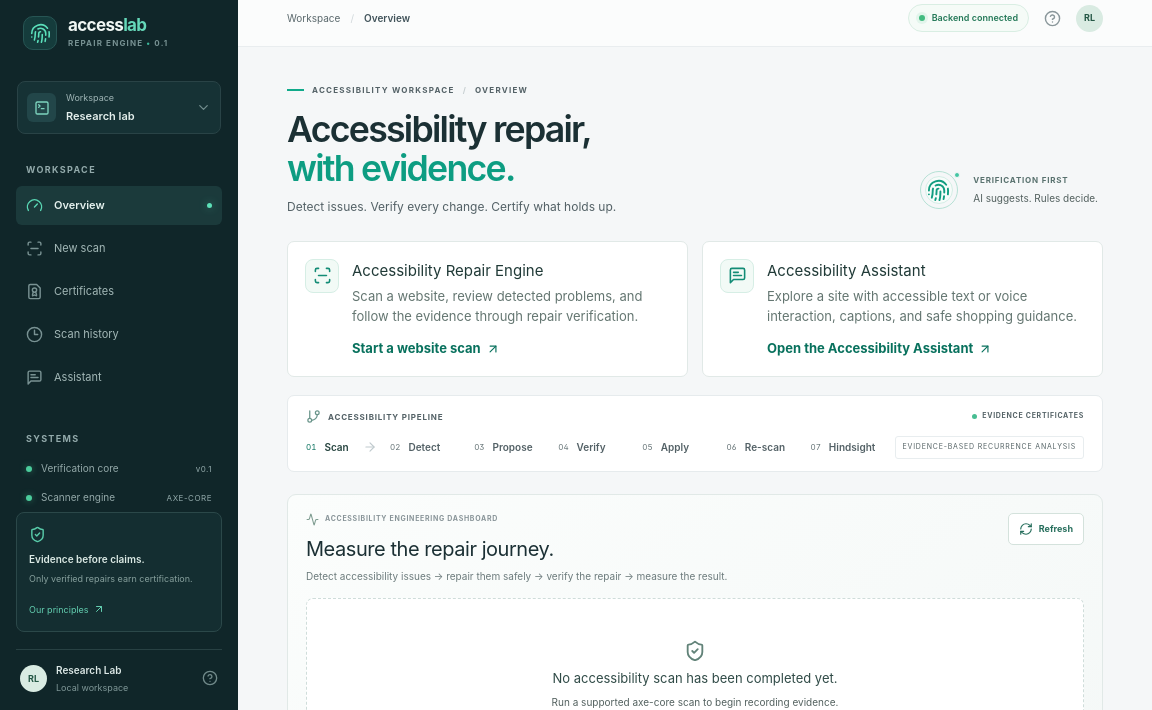
Test case: dashboard › submits the URL and displays real-shaped violation details
The image size is (1152, 710).
Expected: the text "Backend connected" is shown, [908,4,1029,32]
Click the link "New scan": {"x": 66, "y": 248} [26,240,106,256]
(page scrolled)
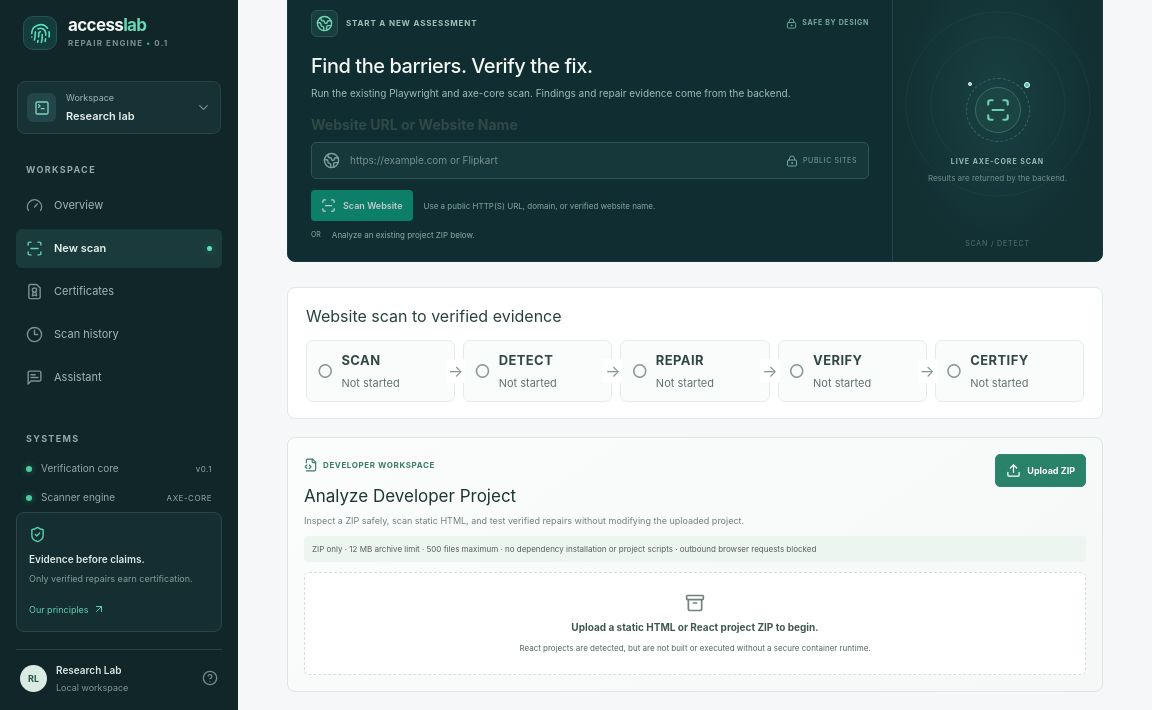
In the field labelled "Website URL or Website Name": {"x": 563, "y": 161} [350,153,776,168], type "https://example.com"
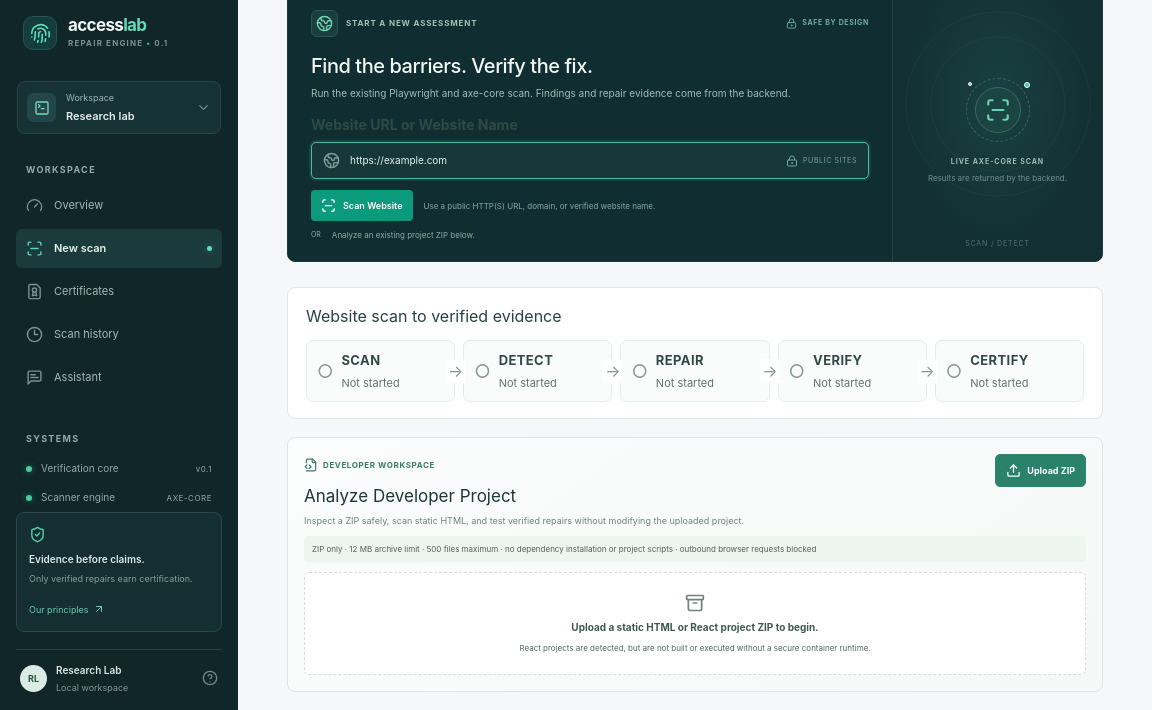
Click the button "Scan Website": {"x": 362, "y": 206} [311,190,412,221]
(page scrolled)
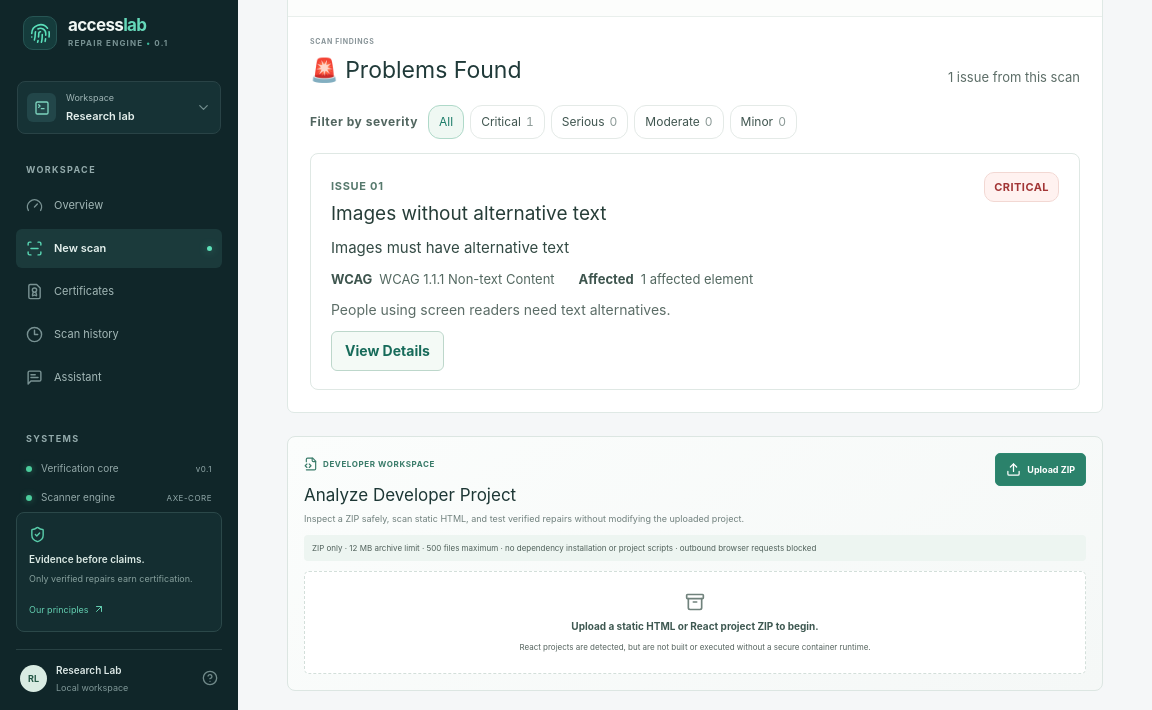
Expected: the text "Images must have alternative text" is shown, [331,238,569,257]
Expected: the text "critical" is shown, [984,172,1059,202]
Expected: the heading "🚨 Problems Found" is shown, [310,53,522,88]
Click the button "View Details": {"x": 387, "y": 351} [331,331,444,371]
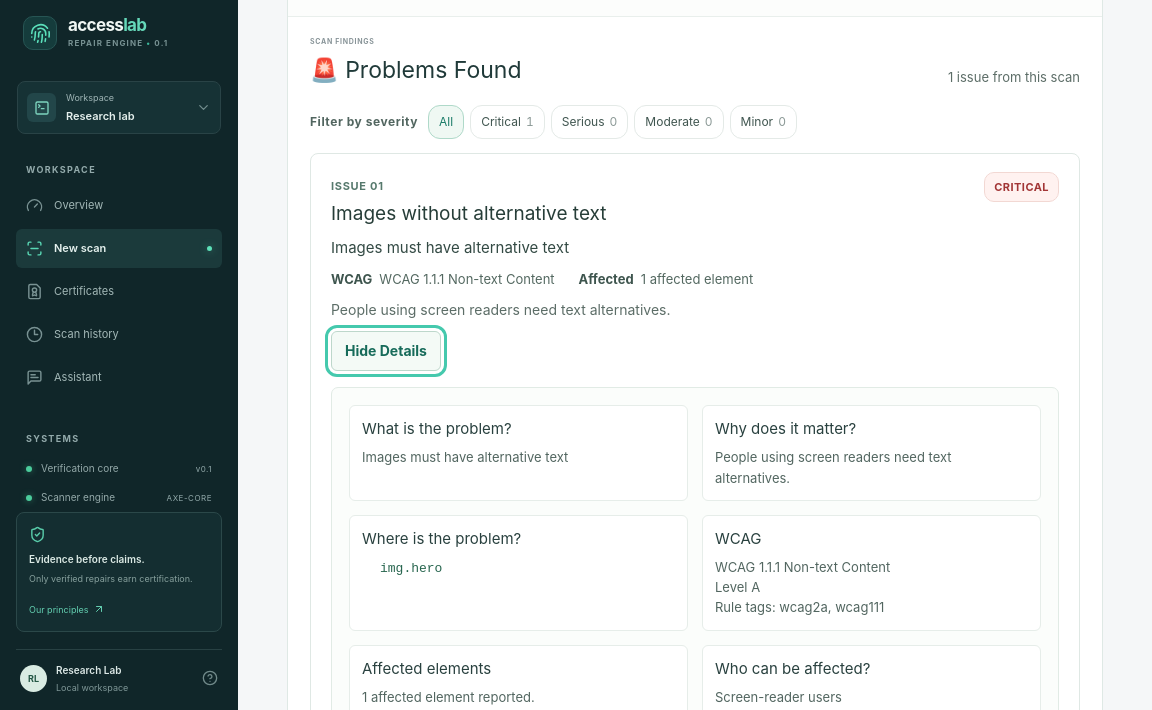
Expected: the text "Rule tags: wcag2a, wcag111" is shown, [715,599,884,615]
Expected: the text "WCAG 1.1.1 Non-text Content" below "Where is the problem?" is shown, [715,559,890,575]
Expected: the text "People using screen readers need text alternatives." below "Why does it matter?" is shown, [715,449,952,486]
Click the button "Serious 0": {"x": 590, "y": 122} [551,105,628,139]
(page scrolled)
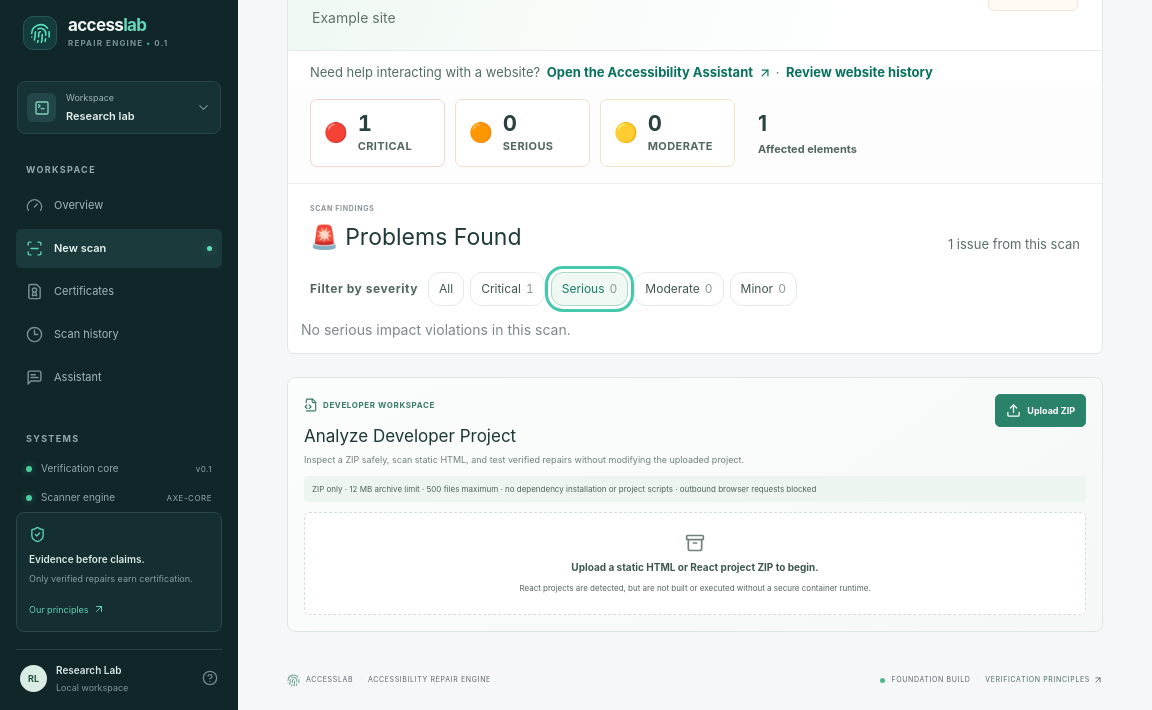
Expected: the text "No serious impact violations in this scan." is shown, [301,321,571,338]
Click the button "Critical 1": {"x": 507, "y": 289} [470,272,545,306]
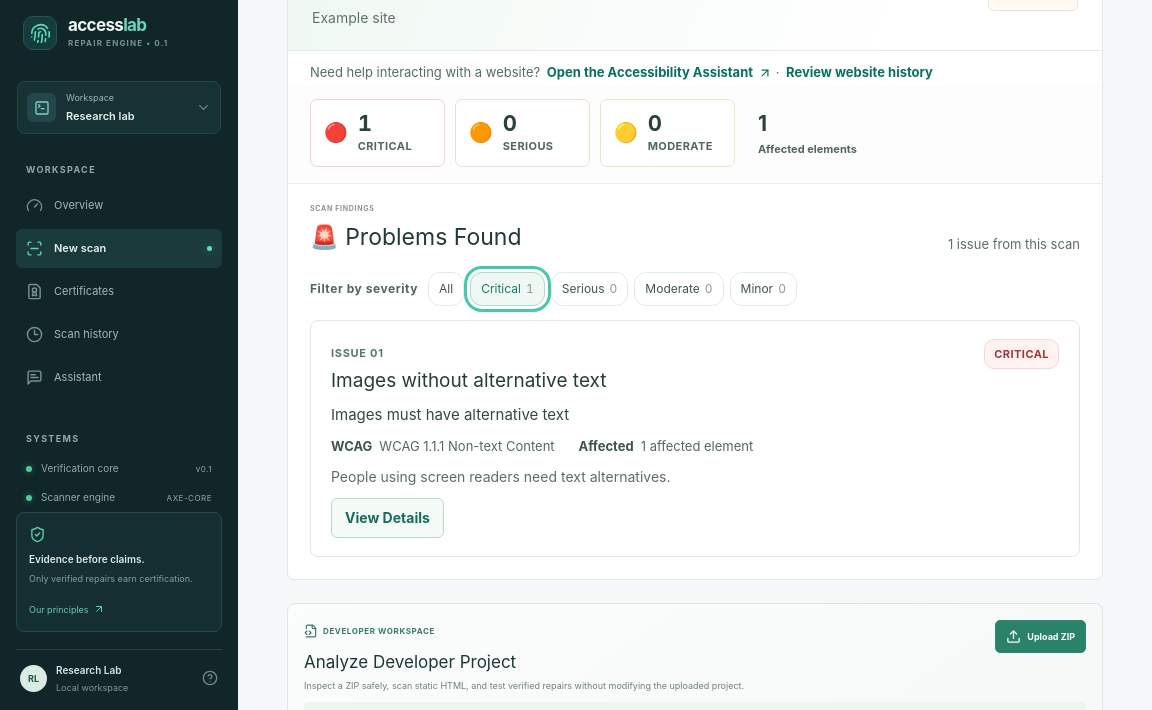
Expected: the text "Images must have alternative text" is shown, [331,405,569,424]
